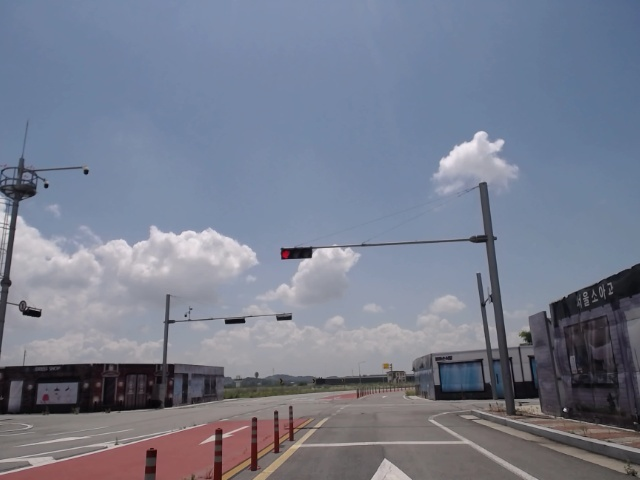red_3: (279, 248, 313, 259)
